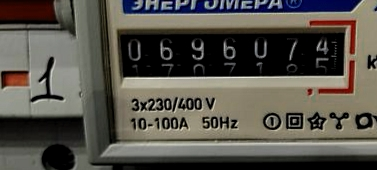0: (125, 36, 144, 61), (252, 34, 269, 60)
4: (314, 33, 330, 55)
5: (314, 56, 330, 76)
6: (220, 34, 238, 61), (157, 35, 175, 61)
7: (284, 35, 300, 61)
9: (189, 35, 205, 61)
screen: (107, 16, 360, 97)
